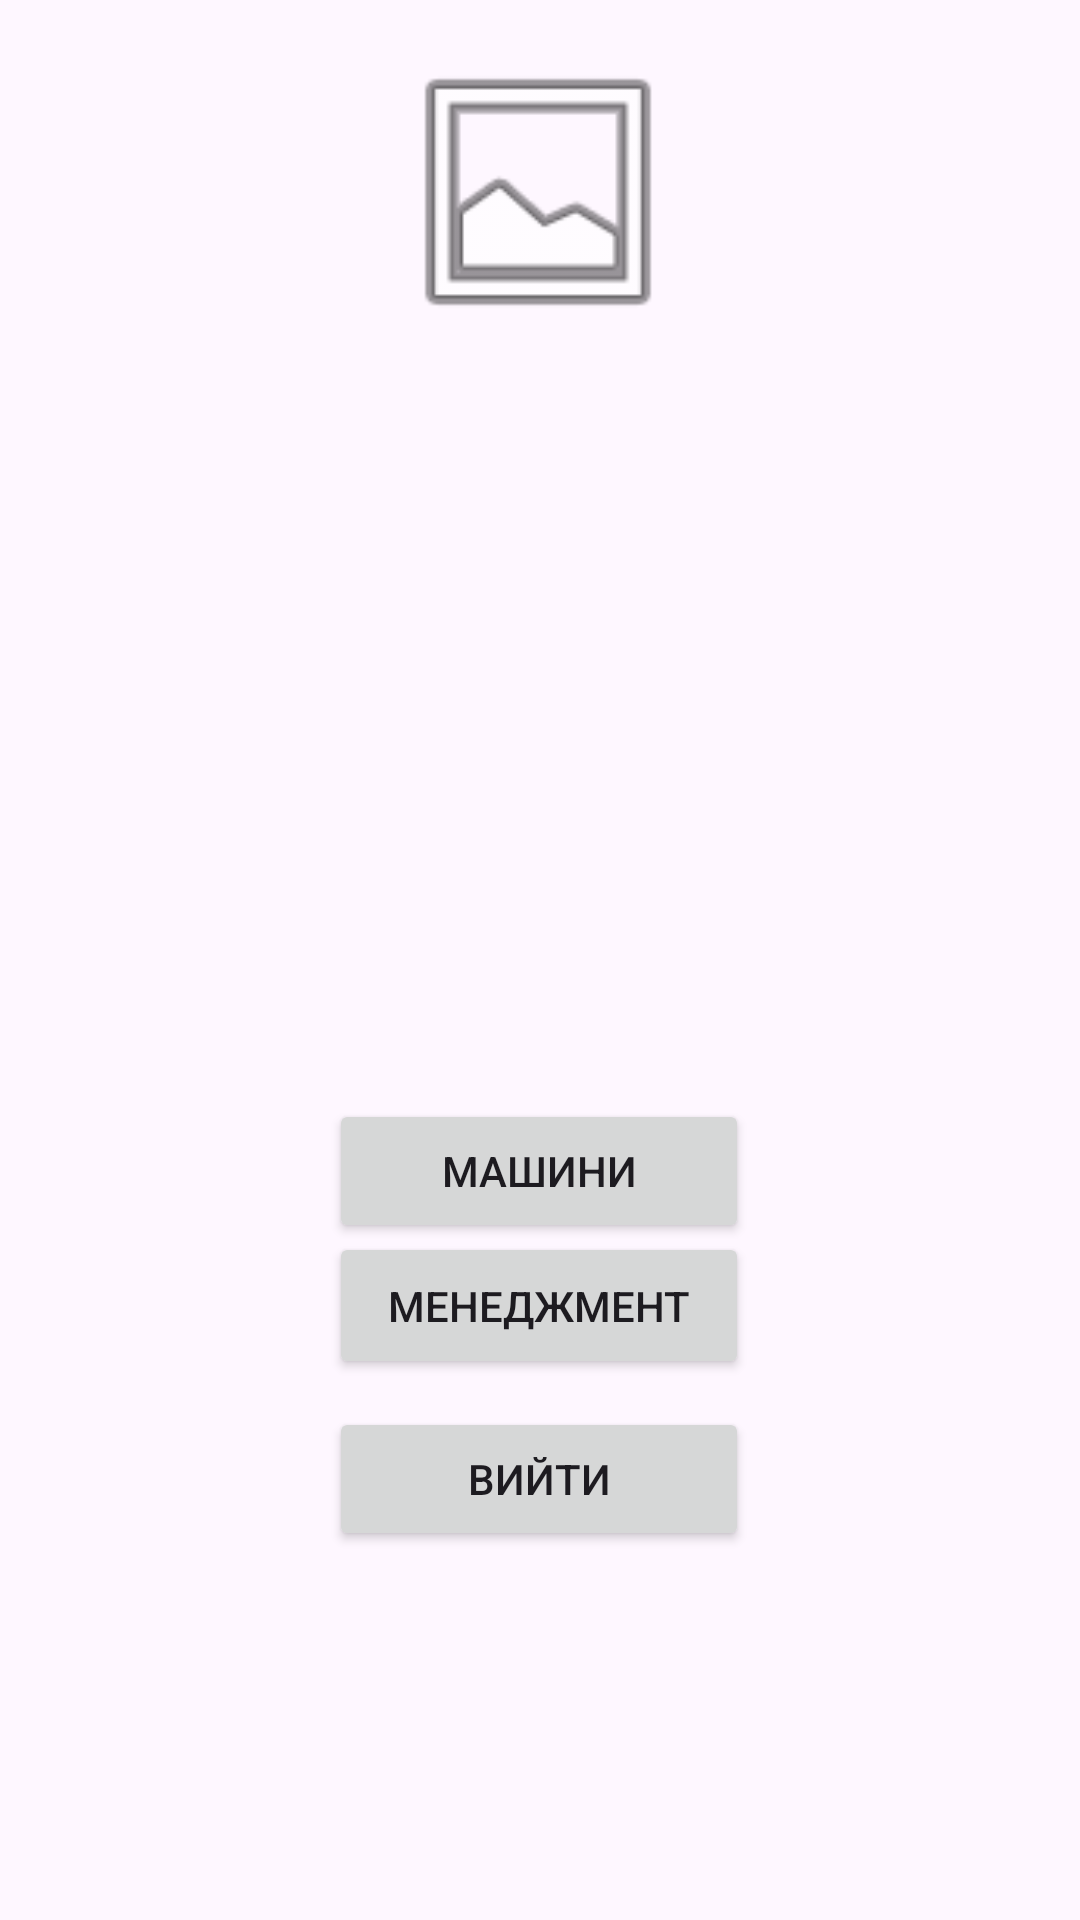

Icon click points for this 1080 x 1920 phone screenshot, format [x,y]:
gallery: [538,192]
